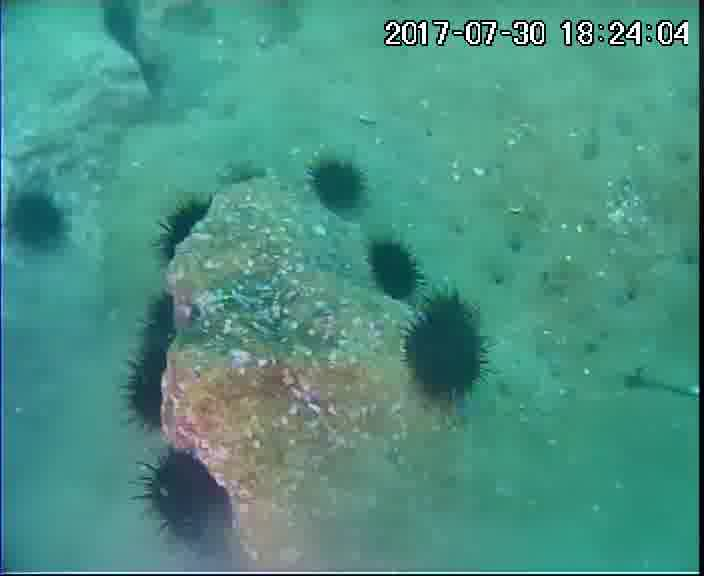echinus: (407, 291, 493, 404), (145, 448, 236, 553), (3, 189, 71, 257), (123, 350, 172, 437), (155, 197, 214, 268), (368, 240, 423, 307), (135, 293, 186, 363), (311, 157, 370, 216), (99, 1, 139, 49)
